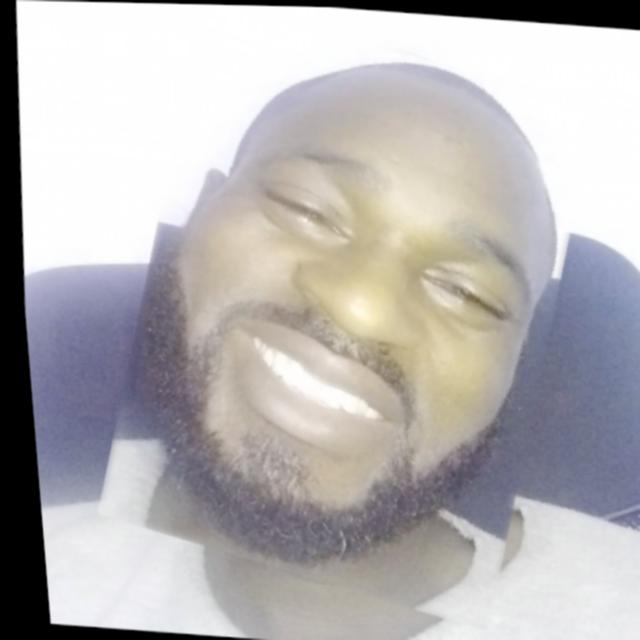happy: (80, 1, 603, 617)
